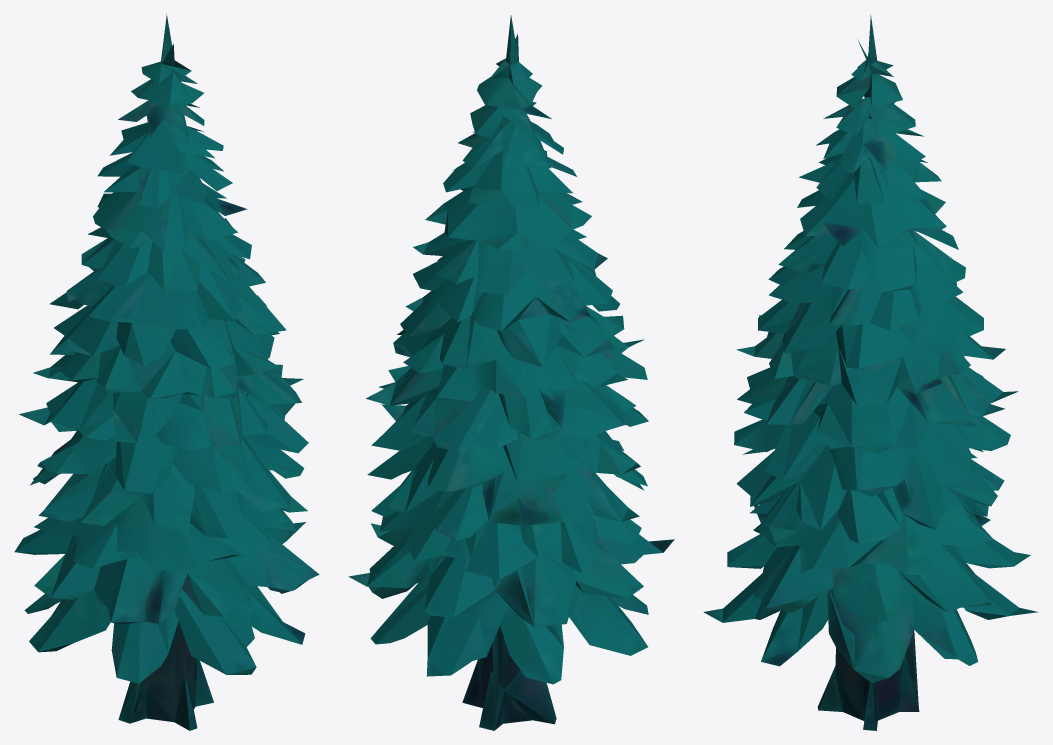
Rendered from pine_1.glb.
3 views of the same model, side by side, from view 1: azimuth 30°, elevation 25°; view 2: azimuth 150°, elevation 25°; view 3: azimuth 270°, elevation 25° (orthographic).
Size of the model in its own units: 0.7974 by 1.9 by 0.8316.
1 material, 1 textured.
